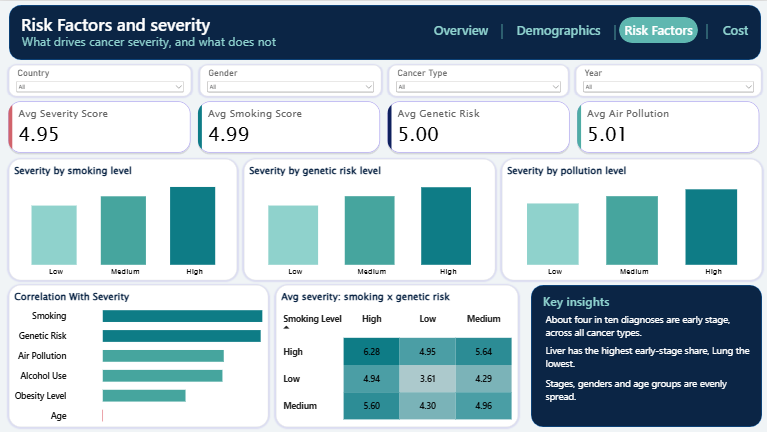

The page's visual inventory and layout, read from the dashboard file:
{"tool":"powerbi","page":{"name":"Risk Factors","canvas":[1920,1080],"ordinal":2},"visuals":[{"type":"slicer","fields":{"Values":["CancerData.Country_Region"]},"box":[22.5,160.6,455,77.5],"z":0,"group":"g2"},{"type":"cardVisual","fields":{"Data":["_Measures.Avg Severity Score","_Measures.Avg Smoking Score","_Measures.Avg Genetic Risk","_Measures.Avg Air Pollution"]},"box":[16,245,1891,140],"z":0},{"type":"shape","box":[22.5,10,1880,137.5],"z":1000,"group":"g1"},{"type":"slicer","fields":{"Values":["CancerData.Gender"]},"box":[500,160.6,452.5,77.5],"z":1000,"group":"g2"},{"type":"clusteredColumnChart","title":"Severity by genetic risk level","fields":{"Category":["CancerData.Genetic Risk Level"],"Y":["_Measures.Avg Severity Score"]},"box":[610,395,627.5,302.5],"z":1000},{"type":"slicer","fields":{"Values":["CancerData.Cancer_Type"]},"box":[972.5,160.6,447.5,77.5],"z":2000,"group":"g2"},{"type":"clusteredColumnChart","title":"Severity by pollution level","fields":{"Category":["CancerData.Pollution Level"],"Y":["_Measures.Avg Severity Score"]},"box":[1255,395,650,302.5],"z":2000},{"type":"slicer","fields":{"Values":["CancerData.Year"]},"box":[1440,160.6,462.5,77.5],"z":3000,"group":"g2"},{"type":"clusteredColumnChart","title":"Severity by smoking level","fields":{"Category":["CancerData.Smoking Level"],"Y":["_Measures.Avg Severity Score"]},"box":[22.5,395,570,302.5],"z":3000},{"type":"pivotTable","title":"Avg severity: smoking x genetic risk","fields":{"Columns":["CancerData.Genetic Risk Level"],"Rows":["CancerData.Smoking Level"],"Values":["_Measures.Avg Severity Score"]},"box":[690,710,605,355],"z":4000},{"type":"group","id":"g1","title":"Group 1","box":[22.5,10,1880,137.5],"z":5000},{"type":"group","id":"g2","title":"Group 3","box":[22.5,160.6,1880,77.5],"z":6000},{"type":"shape","box":[1328.5,768,570,62],"z":7000},{"type":"shape","box":[33.7,65,655,70],"z":7001,"group":"g1"},{"type":"actionButton","box":[1265,40,262.5,65],"z":8000},{"type":"actionButton","box":[1060,40,185,65],"z":9000},{"type":"actionButton","box":[1547.5,40,197.5,65],"z":10000},{"type":"actionButton","box":[1782.5,40,112.5,65],"z":11000},{"type":"shape","box":[1197.5,57.5,115,37.5],"z":12000},{"type":"shape","box":[1710,57.5,115,37.5],"z":13000},{"type":"shape","box":[1480,60,115,37.5],"z":14000},{"type":"shape","box":[1327.5,710,577.5,355],"z":15000},{"type":"shape","box":[1328.4,769,568.1,82.1],"z":16000},{"type":"shape","box":[1328.4,846.7,568.1,82.1],"z":17000},{"type":"shape","box":[1328.4,928.8,568.1,82.1],"z":18000},{"type":"barChart","title":"Correlation With Severity","fields":{"Category":["Risk Correlations.Factor"],"Y":["Sum(Risk Correlations.Correlation With Severity)"]},"box":[22.5,710,647.5,355],"z":19000}]}

Visuals, with their boxes in screenshot pixels (x1, y1, x2, y2), scaled from the page's 1920x1080 canvas onto the 767x432 screenshot:
slicer - CancerData.Country_Region: rect(9, 64, 191, 95)
cardVisual - _Measures.Avg Severity Score x _Measures.Avg Smoking Score: rect(6, 98, 762, 154)
shape: rect(9, 4, 760, 59)
slicer - CancerData.Gender: rect(200, 64, 381, 95)
"Severity by genetic risk level" clusteredColumnChart: rect(244, 158, 494, 279)
slicer - CancerData.Cancer_Type: rect(388, 64, 567, 95)
"Severity by pollution level" clusteredColumnChart: rect(501, 158, 761, 279)
slicer - CancerData.Year: rect(575, 64, 760, 95)
"Severity by smoking level" clusteredColumnChart: rect(9, 158, 237, 279)
"Avg severity: smoking x genetic risk" pivotTable: rect(276, 284, 517, 426)
"Group 1" group: rect(9, 4, 760, 59)
"Group 3" group: rect(9, 64, 760, 95)
shape: rect(531, 307, 758, 332)
shape: rect(13, 26, 275, 54)
actionButton: rect(505, 16, 610, 42)
actionButton: rect(423, 16, 497, 42)
actionButton: rect(618, 16, 697, 42)
actionButton: rect(712, 16, 757, 42)
shape: rect(478, 23, 524, 38)
shape: rect(683, 23, 729, 38)
shape: rect(591, 24, 637, 39)
shape: rect(530, 284, 761, 426)
shape: rect(531, 308, 758, 340)
shape: rect(531, 339, 758, 372)
shape: rect(531, 372, 758, 404)
"Correlation With Severity" barChart: rect(9, 284, 268, 426)
